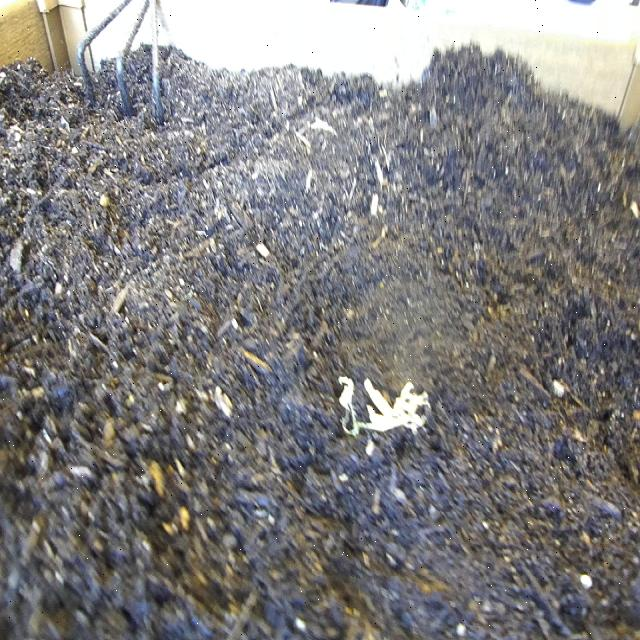Unhealthy: (333, 366, 436, 446)
